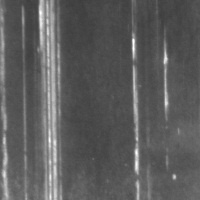scratches: (36, 1, 67, 200), (126, 26, 144, 200), (158, 32, 174, 125)
